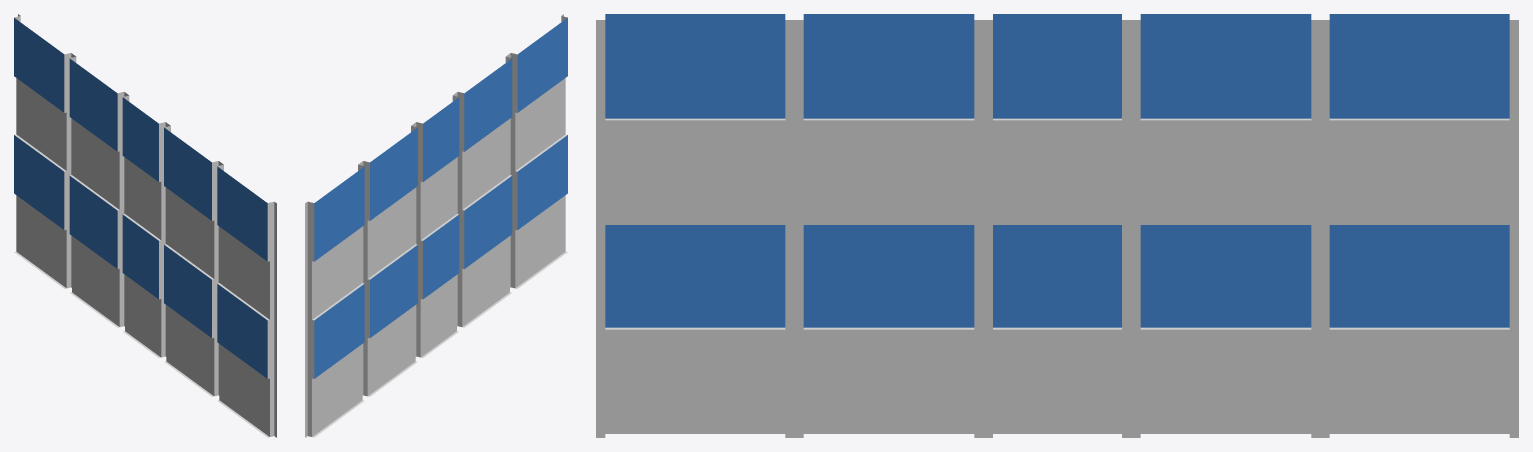
File: 02b_mid.fbx
3 renders of one model, left to right at view 1: azimuth 30°, elevation 25°; view 2: azimuth 150°, elevation 25°; view 3: azimuth 270°, elevation 25°, orthographic. The views are drawn at different scales.
Visible parts, largest first — view 1: 02b_Mid; view 2: 02b_Mid; view 3: 02b_Mid.
Boxes of the visible parts, box(x1,y1,x2,y2) form: 02b_Mid: box(14, 14, 276, 437); 02b_Mid: box(305, 14, 567, 437); 02b_Mid: box(596, 14, 1518, 437).
Bounding box in the file's own units: 0.75 × 25 × 50.
